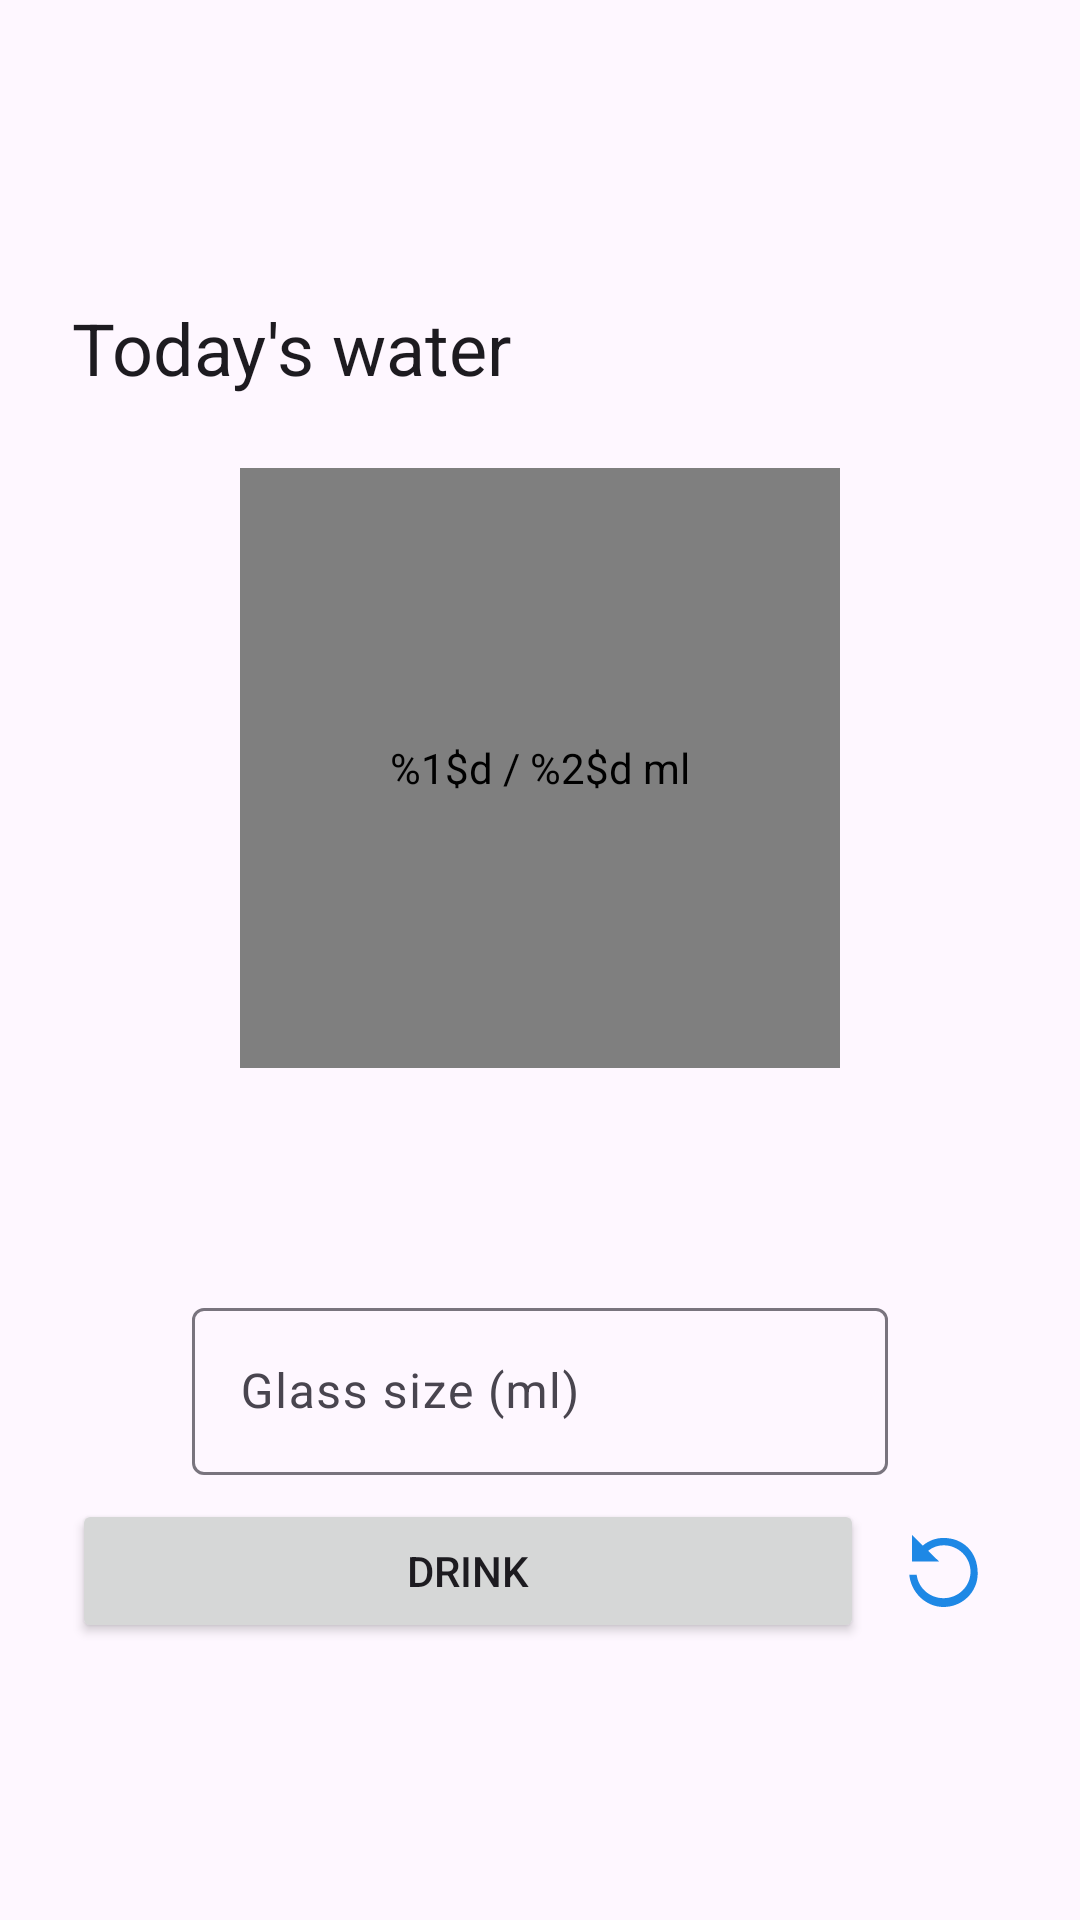

Icons on this 1080 x 1920 Android screen, each with its box as (x1, y1, x2, y2):
Undo: (909, 1535, 978, 1607)
